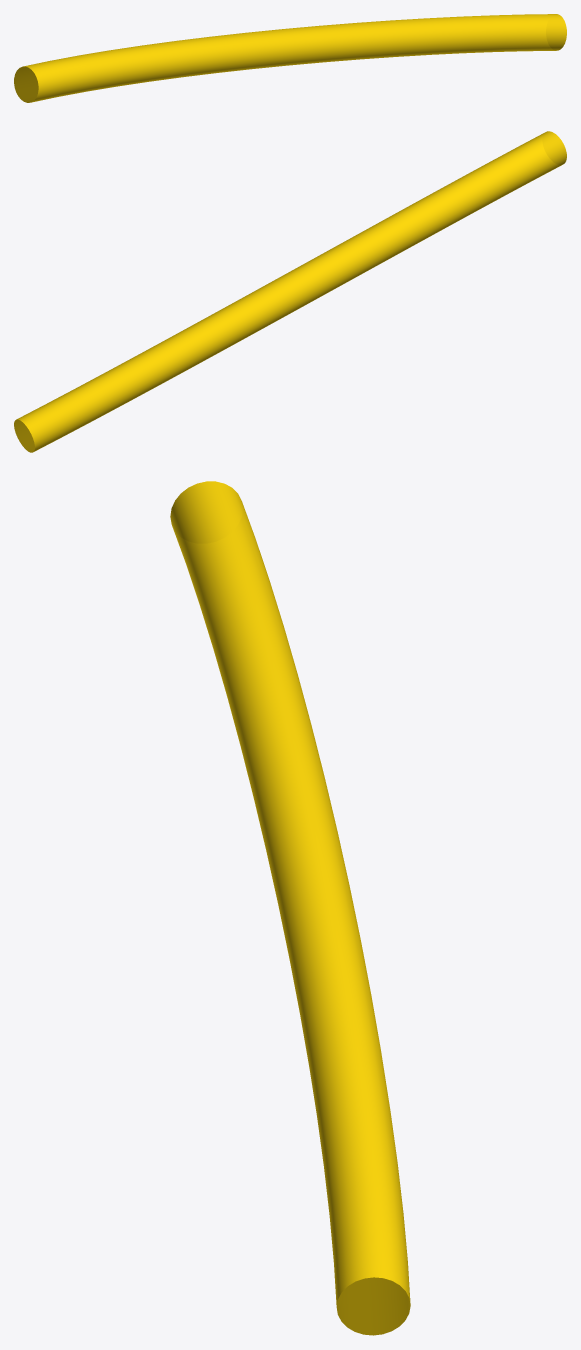
Rendered from Event_421127236_track_48.fbx.
3 renders of one model, top to bottom at view 1: azimuth 30°, elevation 25°; view 2: azimuth 210°, elevation 25°; view 3: azimuth 270°, elevation 25°, orthographic. The views are drawn at different scales.
Visible parts, largest first — view 1: Model; view 2: Model; view 3: Model.
Part boxes in pixels (x1,y1,x2,y2): Model: (14, 14, 566, 102); Model: (14, 131, 566, 452); Model: (170, 481, 410, 1335).
Size of the model in its own units: 0.7225 by 0.1797 by 0.1297.
